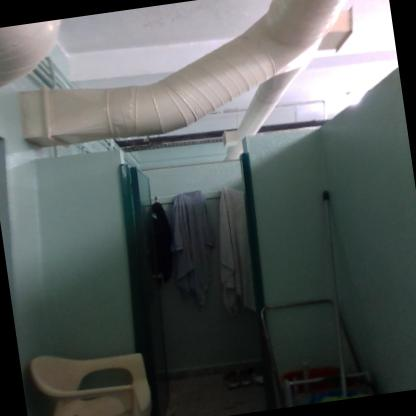open: (106, 123, 289, 404)
